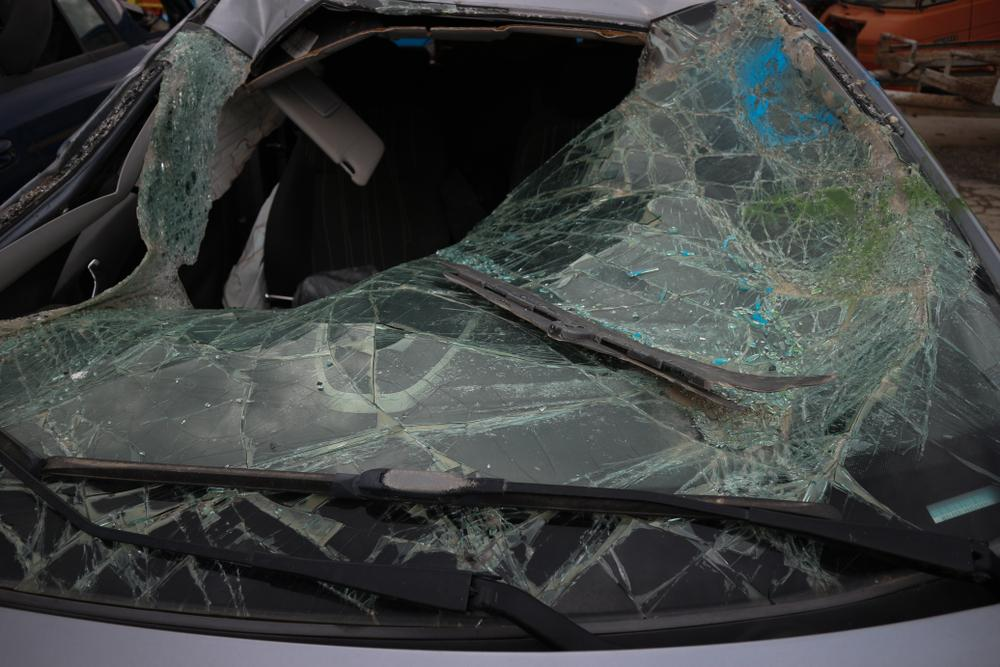glass shatter: (0, 0, 1000, 628)
